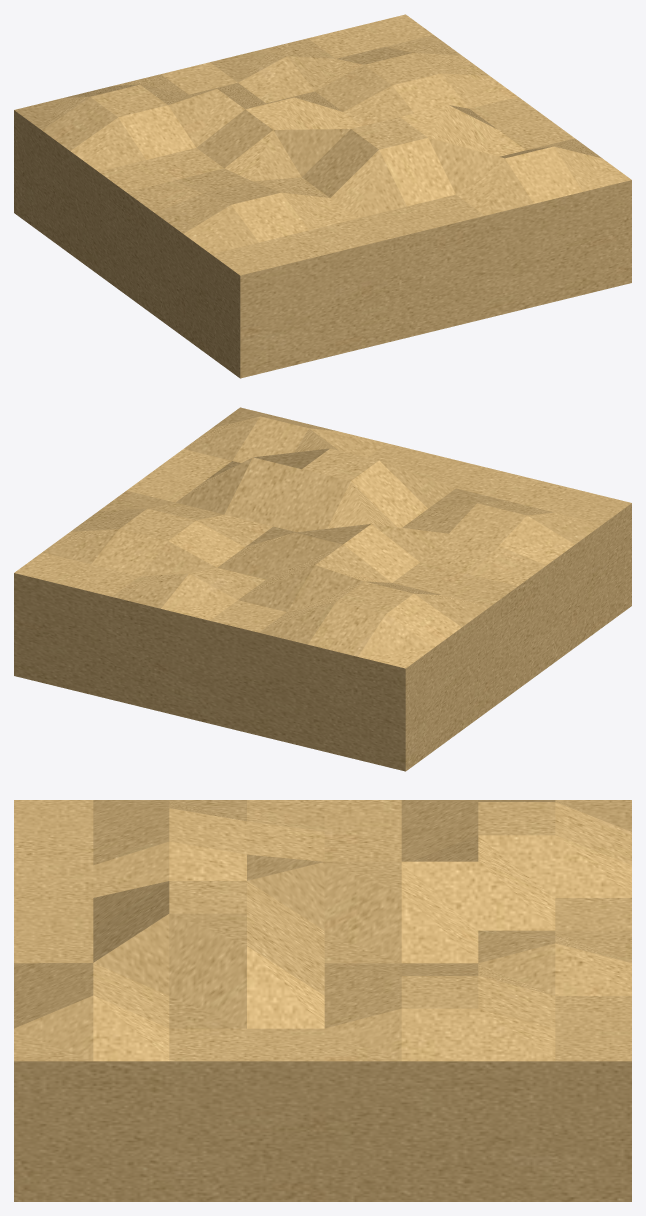
File: Sand.fbx
The picture shows the model from 3 angles, top to bottom: view 1: azimuth 30°, elevation 25°; view 2: azimuth 150°, elevation 25°; view 3: azimuth 270°, elevation 25°; orthographic projection. The views are drawn at different scales.
Parts seen in each view (by area): view 1: Sand; view 2: Sand; view 3: Sand.
Boxes of the visible parts, x1,y1,x2,y2 form: Sand: (14, 14, 631, 378); Sand: (14, 407, 631, 771); Sand: (14, 800, 631, 1201).
Bounding box in the file's own units: 34 × 100 × 100.
Materials: 1 (1 with a texture image).
